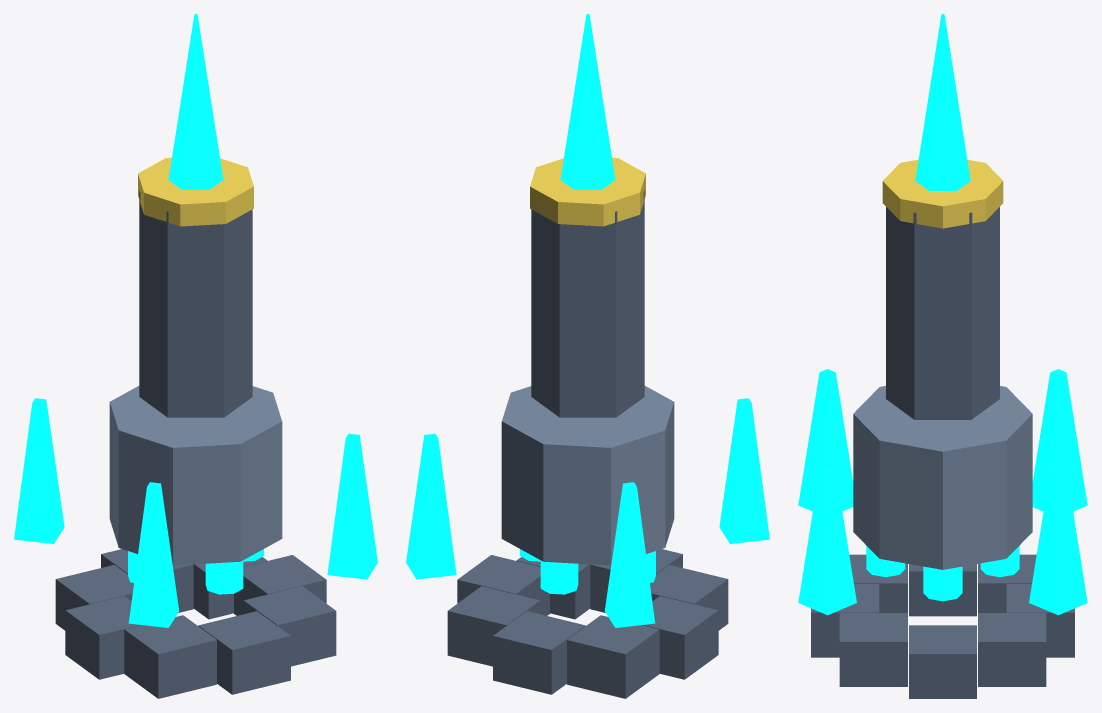
Rendered from spaceship_hq.glb.
The picture shows the model from 3 angles, left to right: view 1: azimuth 30°, elevation 25°; view 2: azimuth 150°, elevation 25°; view 3: azimuth 270°, elevation 25°; orthographic projection.
Visible parts, largest first — view 1: Central_Alien_Citadel_Core, Upper_Spire_Tower_Shaft, Bastion_Base_Slab_6, Apex_Needle_Spire, Bastion_Base_Slab_7, Gold_Collar_Ring, AntiGrav_Wing_Stabilizer_3, AntiGrav_Wing_Stabilizer_4, AntiGrav_Wing_Stabilizer_2, Bastion_Base_Slab_5, Bastion_Base_Slab_8, Bastion_Base_Slab_1 (+4 smaller); view 2: Central_Alien_Citadel_Core, Upper_Spire_Tower_Shaft, Bastion_Base_Slab_4, Apex_Needle_Spire, Bastion_Base_Slab_3, Gold_Collar_Ring, AntiGrav_Wing_Stabilizer_2, AntiGrav_Wing_Stabilizer_1, AntiGrav_Wing_Stabilizer_3, Bastion_Base_Slab_5, Bastion_Base_Slab_2, Bastion_Base_Slab_1 (+4 smaller); view 3: Central_Alien_Citadel_Core, Upper_Spire_Tower_Shaft, AntiGrav_Wing_Stabilizer_1, AntiGrav_Wing_Stabilizer_4, Gold_Collar_Ring, Apex_Needle_Spire, Bastion_Base_Slab_2, Bastion_Base_Slab_8, Bastion_Base_Slab_1, AntiGrav_Wing_Stabilizer_2, AntiGrav_Wing_Stabilizer_3, Bastion_Base_Slab_5 (+7 smaller).
Part boxes in pixels (x1,y1,x2,y2): Central_Alien_Citadel_Core: (109,386,282,565); Upper_Spire_Tower_Shaft: (139,190,252,417); Bastion_Base_Slab_6: (124,615,216,698); Apex_Needle_Spire: (168,14,223,189); Bastion_Base_Slab_7: (198,611,290,694); Gold_Collar_Ring: (138,157,253,226); AntiGrav_Wing_Stabilizer_3: (128,482,179,627); AntiGrav_Wing_Stabilizer_4: (327,433,377,579); AntiGrav_Wing_Stabilizer_2: (14,398,64,543); Bastion_Base_Slab_5: (65,596,141,679); Bastion_Base_Slab_8: (243,586,336,666); Bastion_Base_Slab_1: (234,555,326,615); Central_Alien_Citadel_Core: (501,386,674,565); Upper_Spire_Tower_Shaft: (531,190,644,417); Bastion_Base_Slab_4: (567,615,659,698); Apex_Needle_Spire: (560,14,615,189); Bastion_Base_Slab_3: (493,611,585,694); Gold_Collar_Ring: (530,157,645,226); AntiGrav_Wing_Stabilizer_2: (604,482,655,627); AntiGrav_Wing_Stabilizer_1: (406,433,456,579); AntiGrav_Wing_Stabilizer_3: (719,398,769,543); Bastion_Base_Slab_5: (642,596,718,679); Bastion_Base_Slab_2: (447,586,540,666); Bastion_Base_Slab_1: (457,555,549,615); Central_Alien_Citadel_Core: (853,386,1032,569); Upper_Spire_Tower_Shaft: (886,207,999,419); AntiGrav_Wing_Stabilizer_1: (1029,466,1087,615); AntiGrav_Wing_Stabilizer_4: (798,466,856,615); Gold_Collar_Ring: (882,159,1003,228); Apex_Needle_Spire: (915,14,970,190); Bastion_Base_Slab_2: (978,613,1046,686); Bastion_Base_Slab_8: (839,613,907,686); Bastion_Base_Slab_1: (909,625,976,698); AntiGrav_Wing_Stabilizer_2: (1032,369,1087,511); AntiGrav_Wing_Stabilizer_3: (798,369,853,511); Bastion_Base_Slab_5: (909,564,976,616).
Size of the model in its own units: 17.74 by 42.52 by 17.74.
